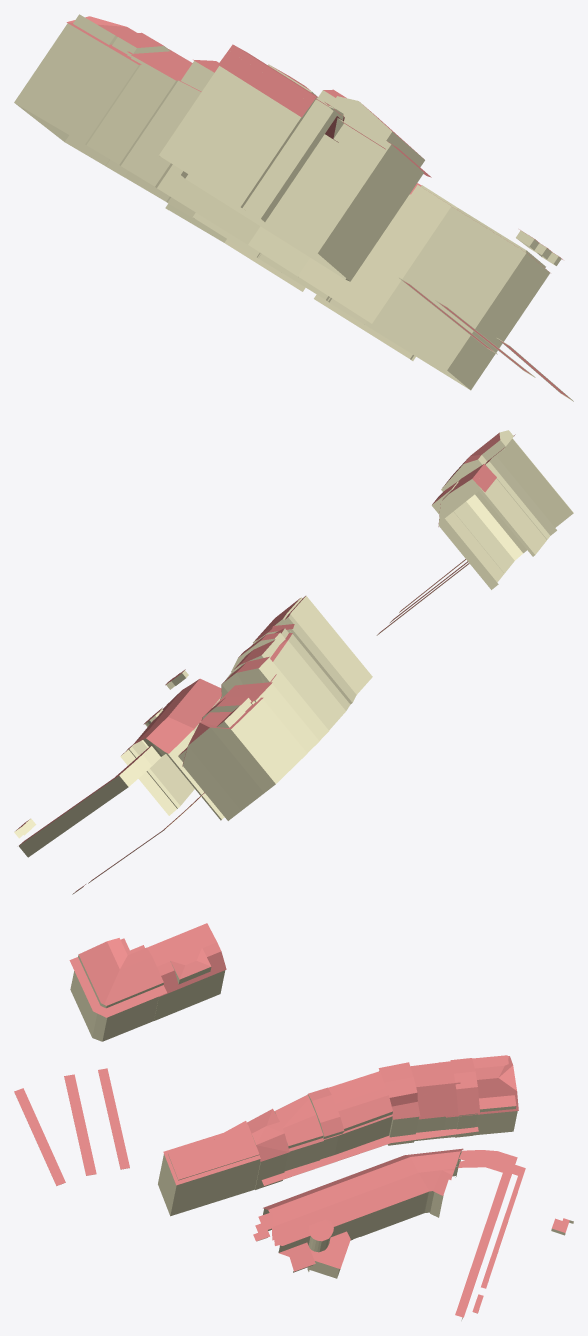
The model's file is tile_057.glb.
3 renders of one model, top to bottom at view 1: azimuth 30°, elevation 25°; view 2: azimuth 150°, elevation 25°; view 3: azimuth 270°, elevation 25°, orthographic. The views are drawn at different scales.
Visible parts, largest first — view 1: Batched_Building_ID_1404A1B5-FDFD-4FFC-9309-C6D436AB64C4, Batched_Building_ID_6B09A7D1-474D-49A7-AF5B-536FDCF0514F; view 2: Batched_Building_ID_1404A1B5-FDFD-4FFC-9309-C6D436AB64C4, Batched_Building_ID_6B09A7D1-474D-49A7-AF5B-536FDCF0514F; view 3: Batched_Building_ID_6B09A7D1-474D-49A7-AF5B-536FDCF0514F, Batched_Building_ID_1404A1B5-FDFD-4FFC-9309-C6D436AB64C4.
Part boxes in pixels (bbox=[...]): Batched_Building_ID_1404A1B5-FDFD-4FFC-9309-C6D436AB64C4: bbox=[14, 14, 573, 401]; Batched_Building_ID_6B09A7D1-474D-49A7-AF5B-536FDCF0514F: bbox=[66, 16, 569, 398]; Batched_Building_ID_1404A1B5-FDFD-4FFC-9309-C6D436AB64C4: bbox=[14, 430, 573, 894]; Batched_Building_ID_6B09A7D1-474D-49A7-AF5B-536FDCF0514F: bbox=[16, 432, 515, 893]; Batched_Building_ID_6B09A7D1-474D-49A7-AF5B-536FDCF0514F: bbox=[14, 923, 569, 1317]; Batched_Building_ID_1404A1B5-FDFD-4FFC-9309-C6D436AB64C4: bbox=[15, 954, 573, 1320].
Bounding box in the file's own units: 109 × 102 × 176.
